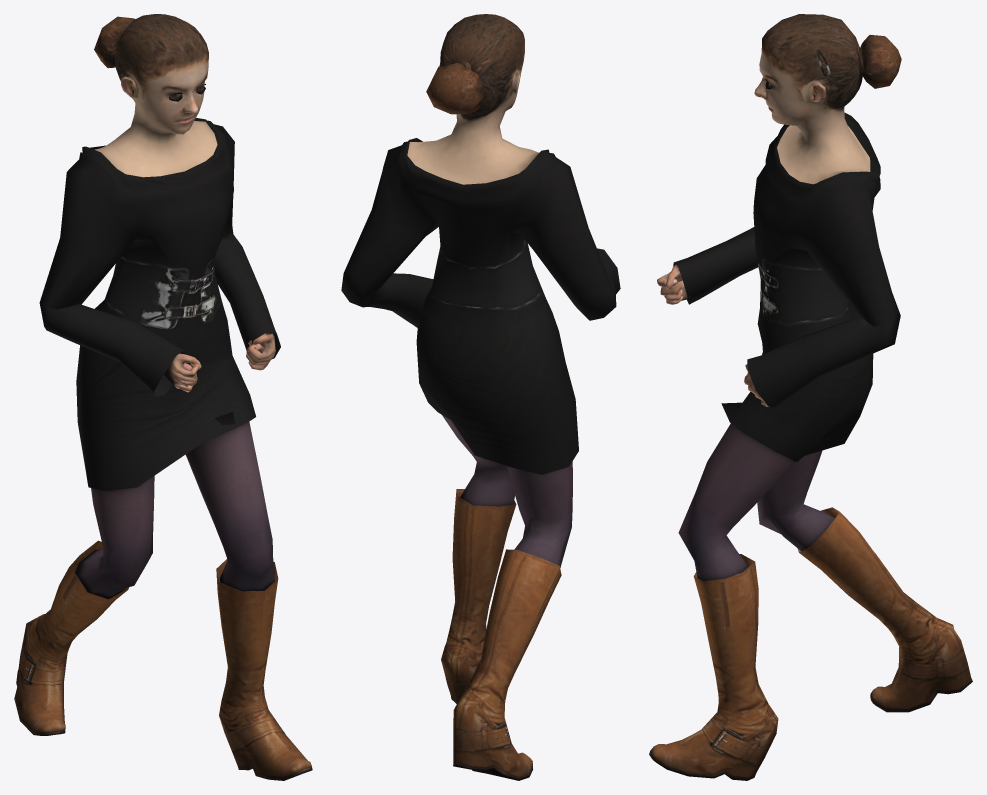
Rendered from Ana_Model_000002.obj.
3 renders of one model, left to right at view 1: azimuth 30°, elevation 25°; view 2: azimuth 150°, elevation 25°; view 3: azimuth 270°, elevation 25°, orthographic. The views are drawn at different scales.
Parts seen in each view (by area): view 1: Ana_Cube.004; view 2: Ana_Cube.004; view 3: Ana_Cube.004.
Part boxes in pixels (<box>): Ana_Cube.004: <box>14,14,312,780</box>; Ana_Cube.004: <box>341,14,620,780</box>; Ana_Cube.004: <box>649,14,972,780</box>.
Bounding box in the file's own units: 0.6124 × 1.84 × 0.7373.
Materials: 1 (1 with a texture image).
